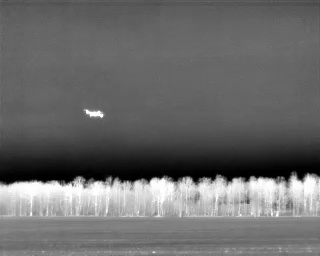DRONE: (81, 104, 108, 123)
